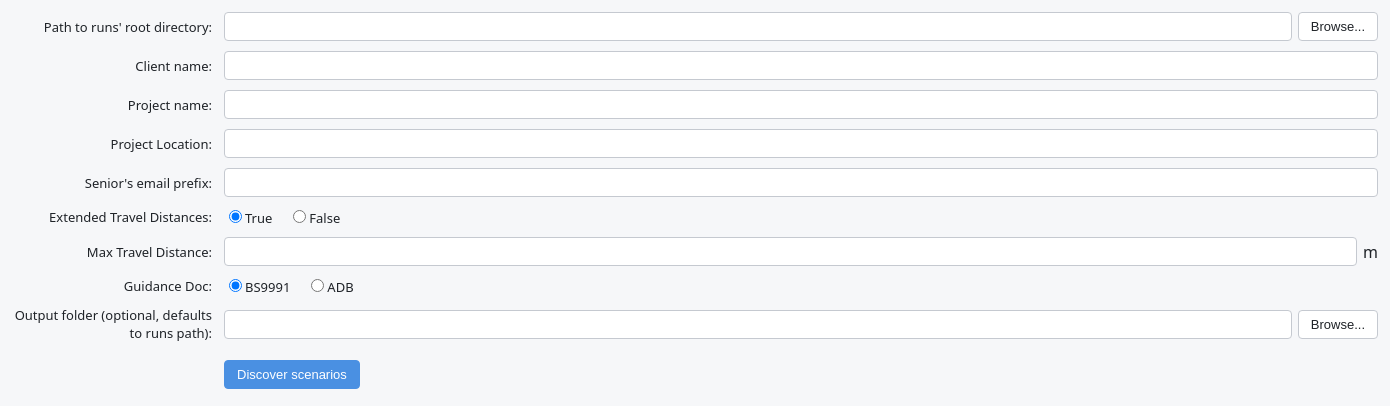
Test: ReportForm › shows discovered scenarios as default-checked checkboxes after Discover
Type "C:/runs" into the field labelled "Path to runs' root directory:" at (758, 26), box [224,12,1292,41]
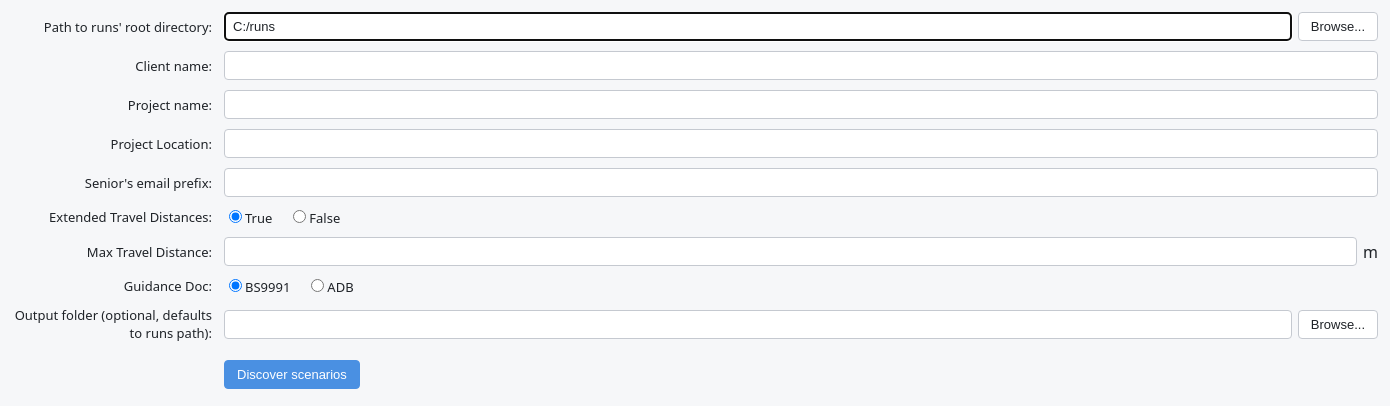
Type "Acme" into the field labelled "Client name:" at (801, 66), box [224,51,1378,80]
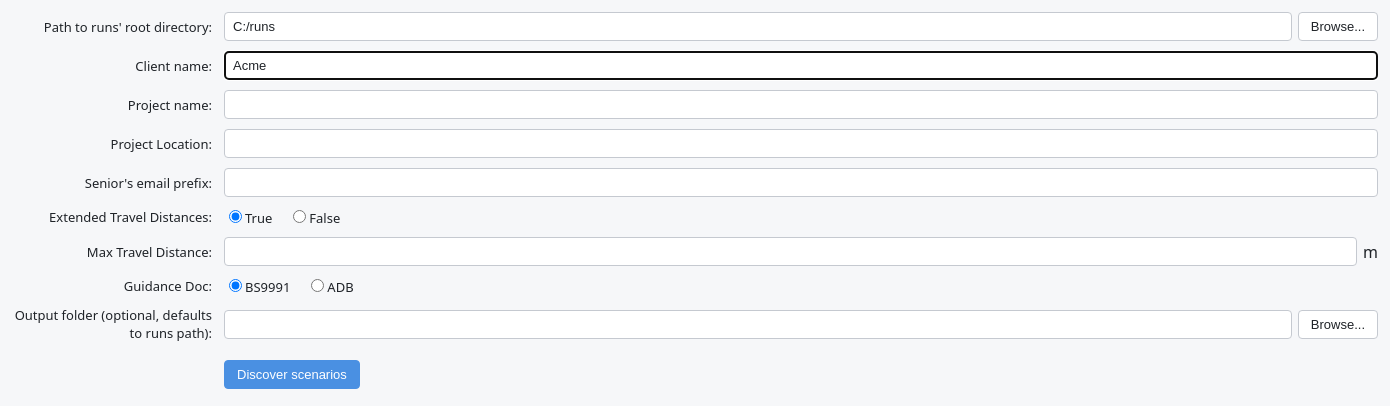
Type "Proj" into the field labelled "Project name:" at (801, 104), box [224,90,1378,119]
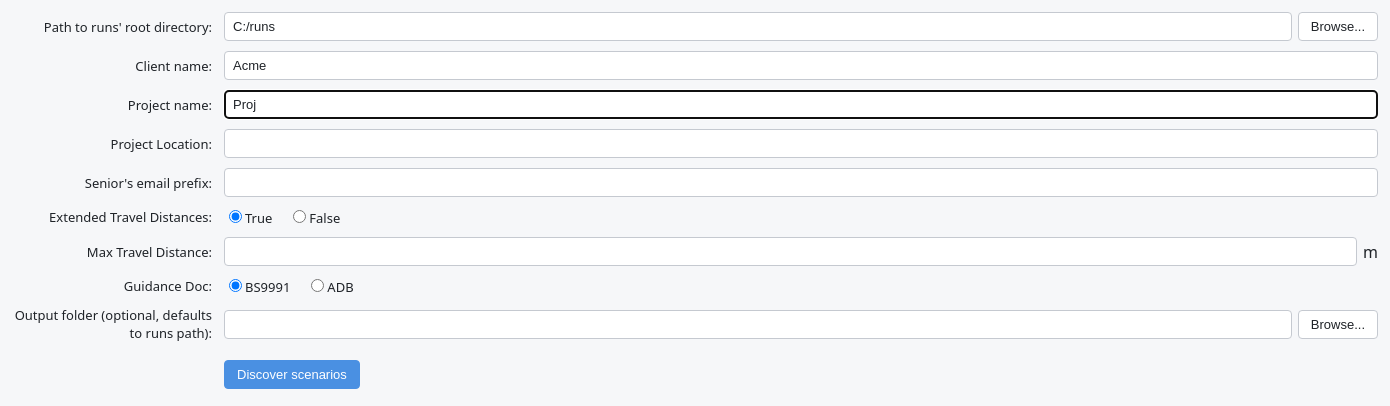
Type "London" into the field labelled "Project Location:" at (801, 144), box [224,129,1378,158]
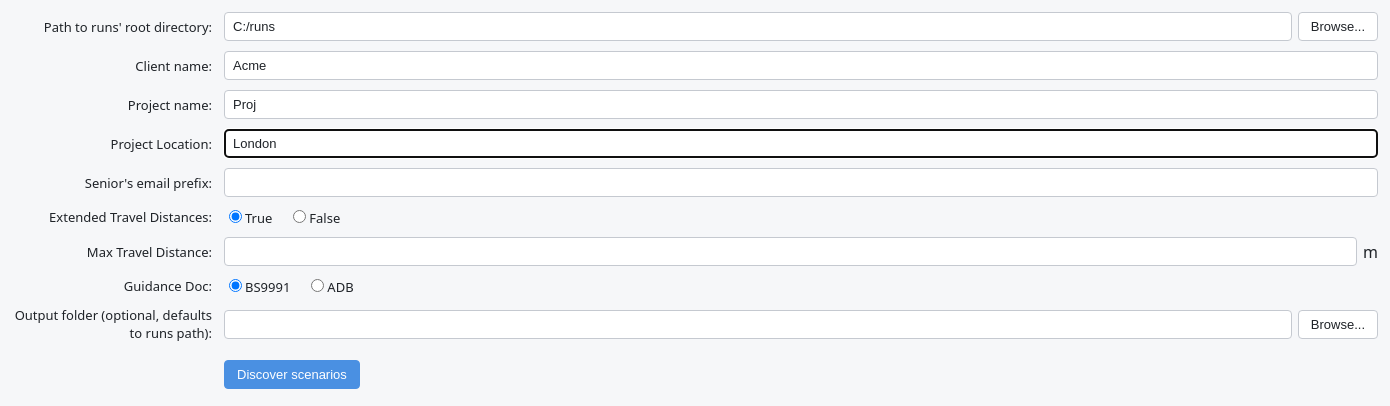
Type "ian" into the field labelled "Senior's email prefix:" at (801, 182), box [224,168,1378,197]
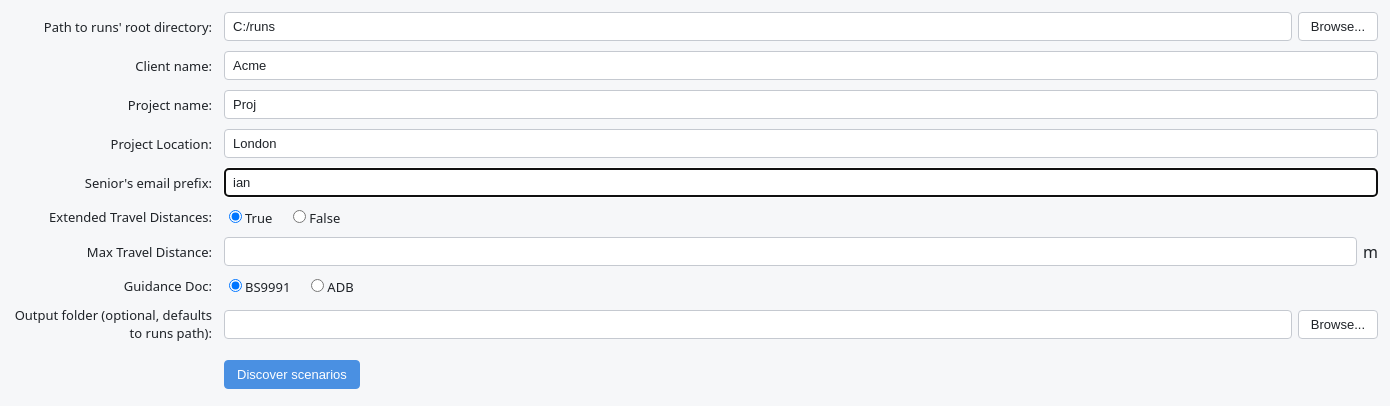
Click the button "Discover scenarios" at (292, 374), box [224,360,360,389]
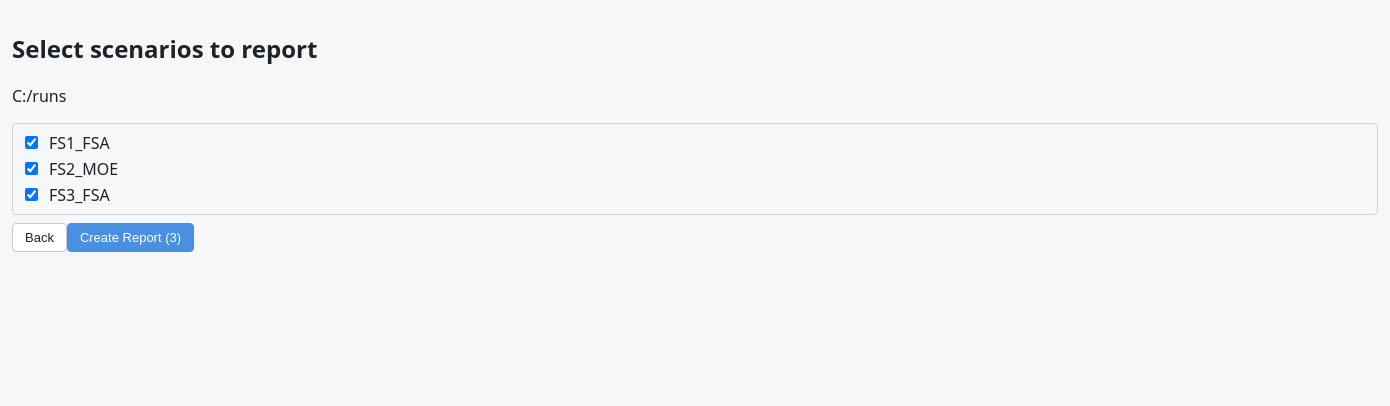
Result: the button "Create Report (3)" is shown at [67,223,194,252]
Result: the number of checkboxes is 3 at [25,136,38,149]; [25,162,38,175]; [25,188,38,201]
Result: the checkbox labelled "FS1_FSA" is checked at [25,136,38,149]
